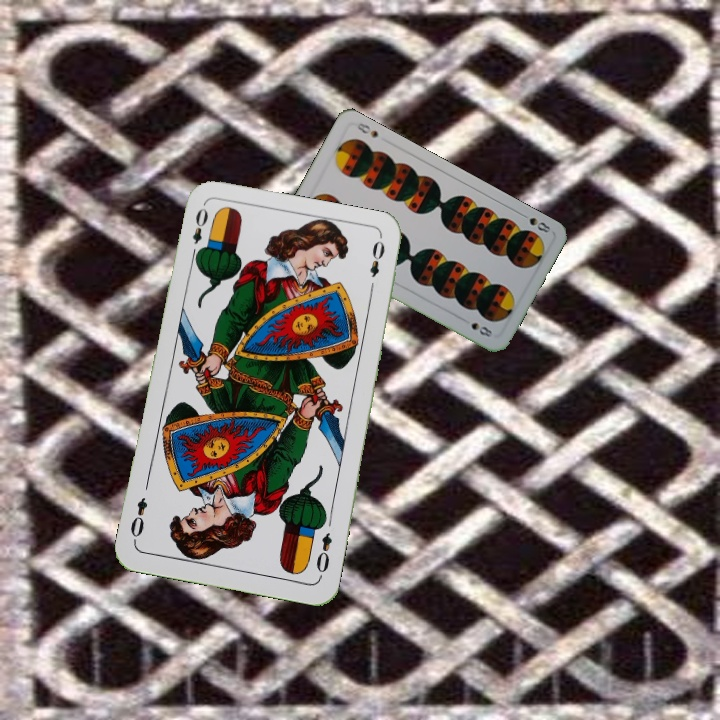EO: (187, 203, 211, 261), (312, 528, 335, 580)
S8: (516, 209, 553, 235)
